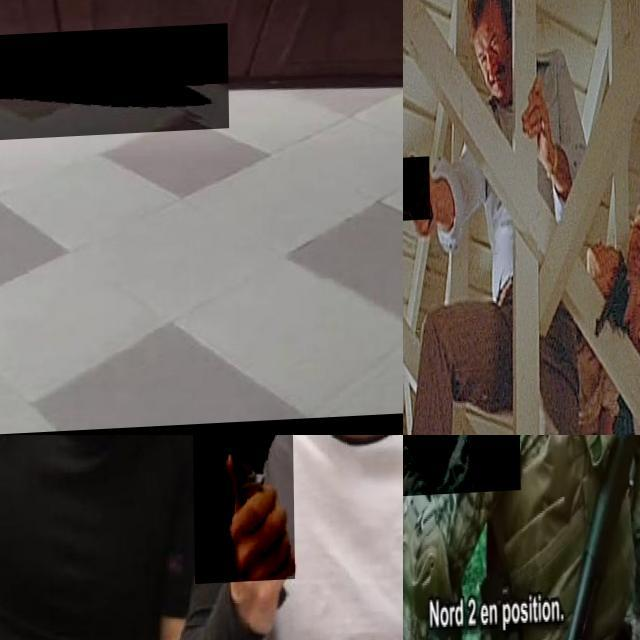-: (0, 28, 228, 145), (190, 435, 293, 587)
gun-knife-thesis - v11 Yolov5 augmented: (403, 435, 548, 558), (584, 244, 640, 362), (403, 158, 430, 223)
